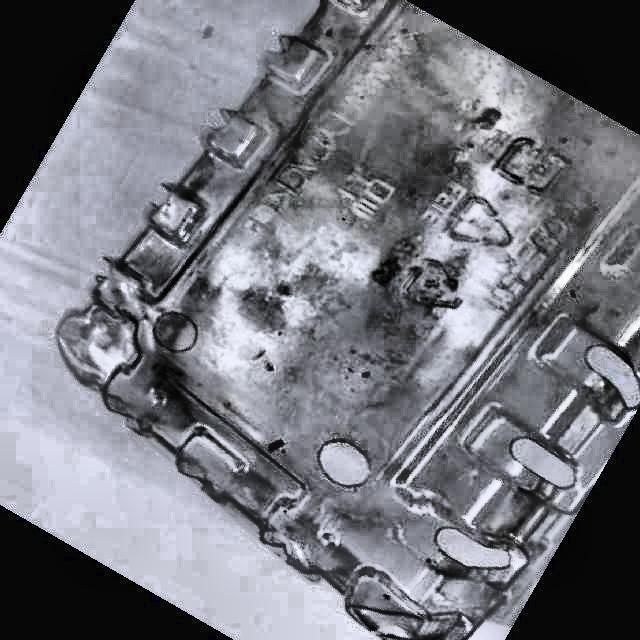plastic: (58, 0, 640, 640)
